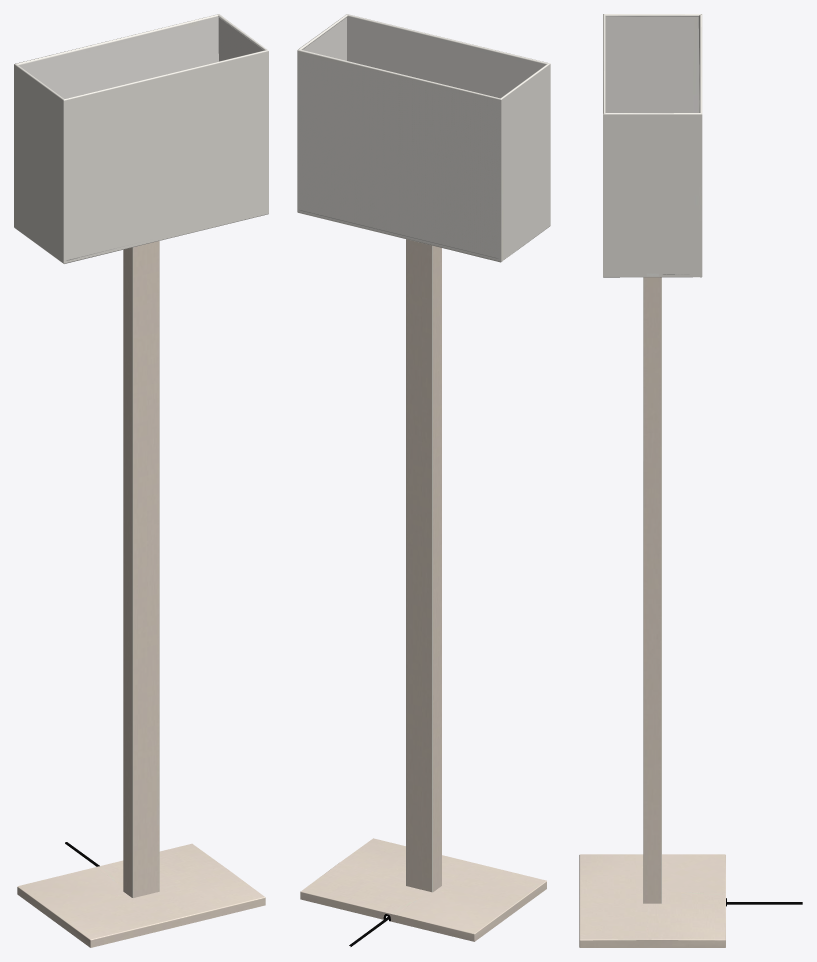
Rendered from TOMELILLA floor lamp.glb.
3 renders of one model, left to right at view 1: azimuth 30°, elevation 25°; view 2: azimuth 150°, elevation 25°; view 3: azimuth 270°, elevation 25°, orthographic.
Parts seen in each view (by area): view 1: 30464041-TOMELILLA001; view 2: 30464041-TOMELILLA001; view 3: 30464041-TOMELILLA001.
Boxes of the visible parts, box(x1,y1,x2,y2) form: 30464041-TOMELILLA001: box(14, 14, 268, 947); 30464041-TOMELILLA001: box(297, 14, 550, 946); 30464041-TOMELILLA001: box(579, 14, 802, 947).
Bounding box in the file's own units: 0.3798 × 1.49 × 0.3586.
1 material, 1 textured.
